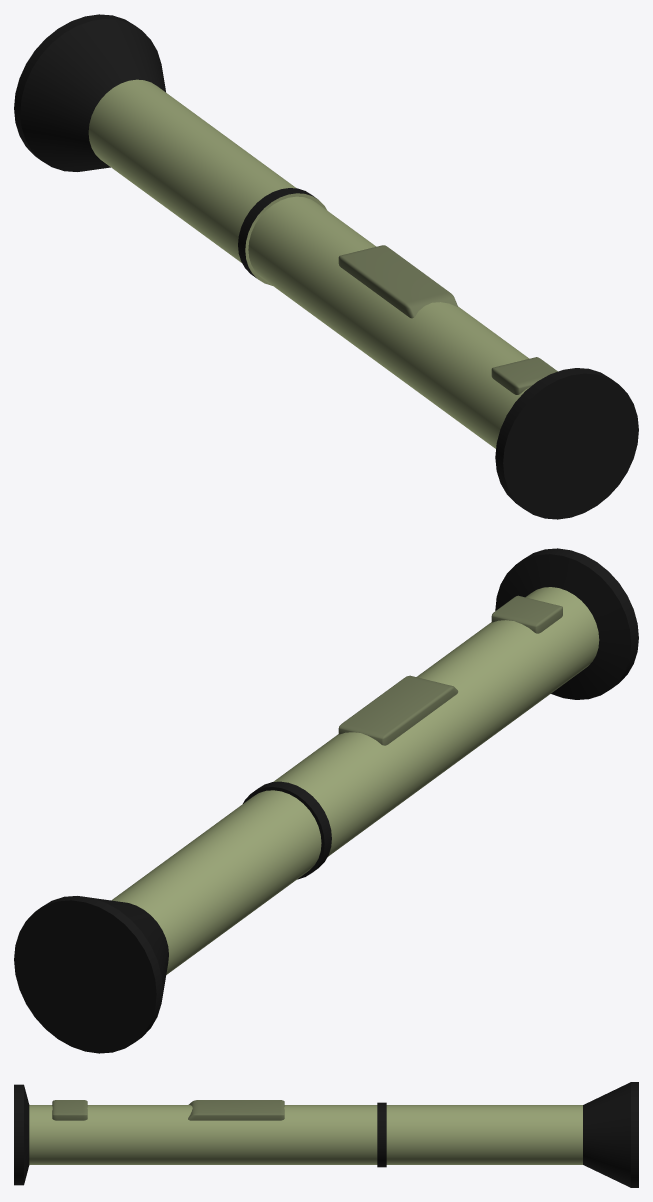
The model's file is rpg.glb.
3 renders of one model, top to bottom at view 1: azimuth 30°, elevation 25°; view 2: azimuth 150°, elevation 25°; view 3: azimuth 270°, elevation 25°, orthographic. The views are drawn at different scales.
Parts seen in each view (by area): view 1: Cylinder; view 2: Cylinder; view 3: Cylinder.
Part boxes in pixels (x1=…): Cylinder: x1=14, y1=14, x2=638, y2=519; Cylinder: x1=14, y1=548, x2=638, y2=1053; Cylinder: x1=14, y1=1082, x2=638, y2=1187.
Size of the model in its own units: 0.2934 by 0.2934 by 1.73.
